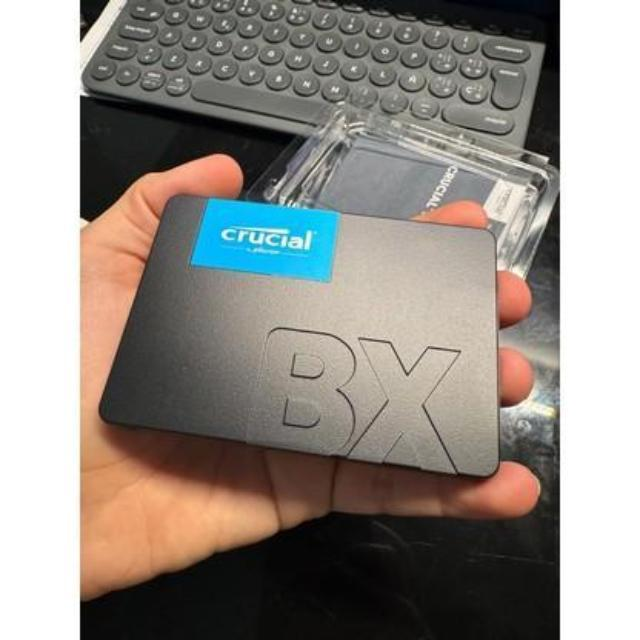DISK: (96, 189, 510, 483)
